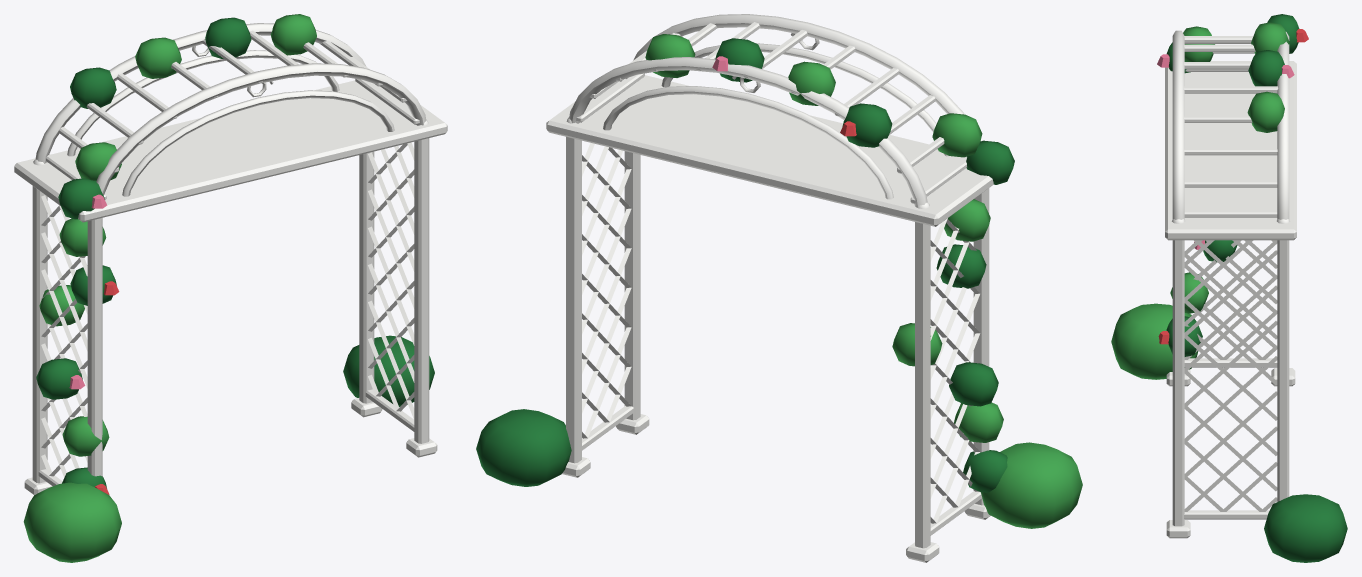
The model's file is arco_trelica.glb.
3 views of the same model, side by side, from view 1: azimuth 30°, elevation 25°; view 2: azimuth 150°, elevation 25°; view 3: azimuth 270°, elevation 25° (orthographic). The views are drawn at different scales.
Parts seen in each view (by area): view 1: arco_trelica; view 2: arco_trelica; view 3: arco_trelica.
Part boxes in pixels (<box>): arco_trelica: <box>14,14,447,562</box>; arco_trelica: <box>476,14,1082,562</box>; arco_trelica: <box>1111,14,1347,562</box>.
Bounding box in the file's own units: 3.48 × 3.09 × 1.58.
Materials: 1 (1 with a texture image).
